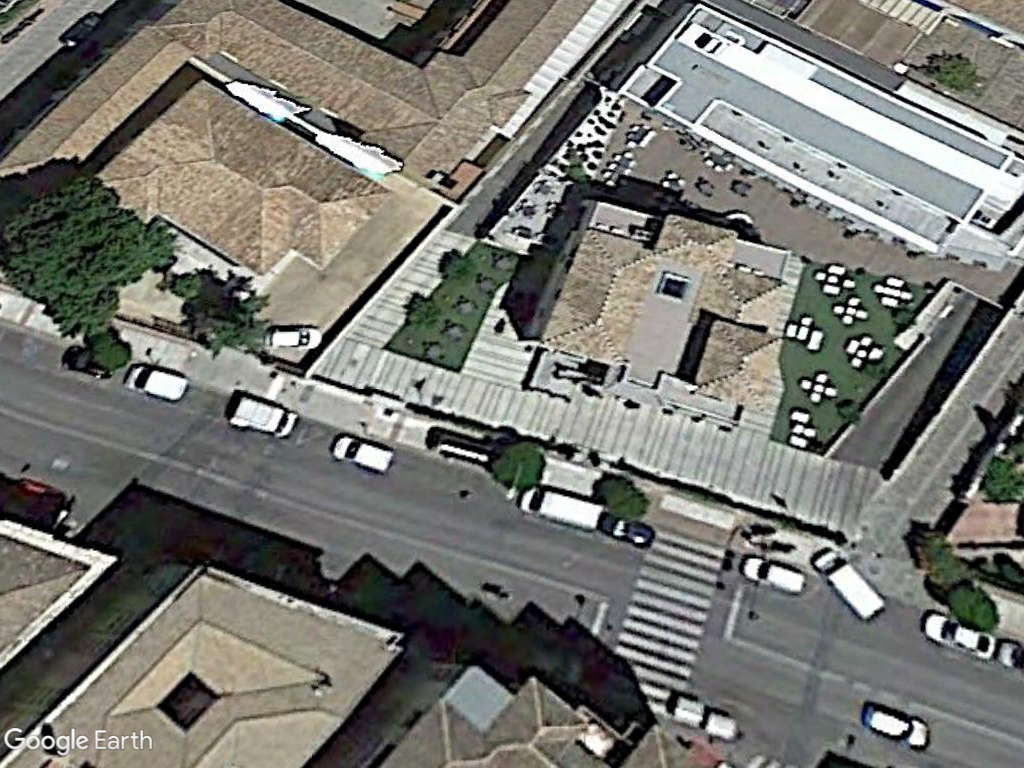car: (918, 607, 998, 662), (861, 700, 936, 754), (261, 320, 328, 355)
truck: (229, 389, 303, 440)
van: (812, 540, 888, 624), (520, 480, 607, 532), (737, 550, 811, 598), (123, 359, 194, 404), (330, 429, 397, 475)
